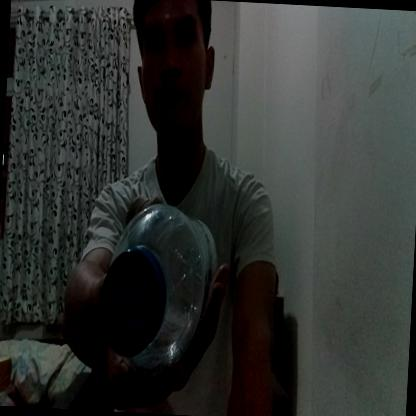plastic_bottles: (95, 199, 222, 379)
